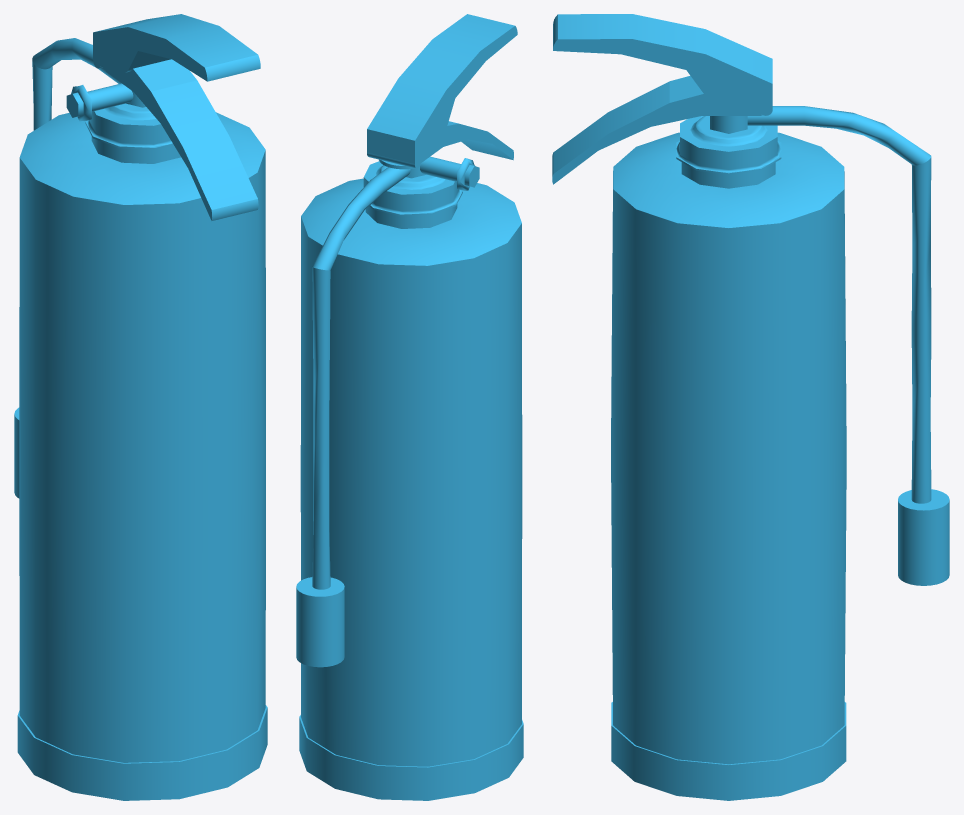
The model's file is MeiHuoQi.gltf.
3 views of the same model, side by side, from view 1: azimuth 30°, elevation 25°; view 2: azimuth 150°, elevation 25°; view 3: azimuth 270°, elevation 25° (orthographic). The views are drawn at different scales.
Bounding box in the file's own units: 122 × 404 × 201.
